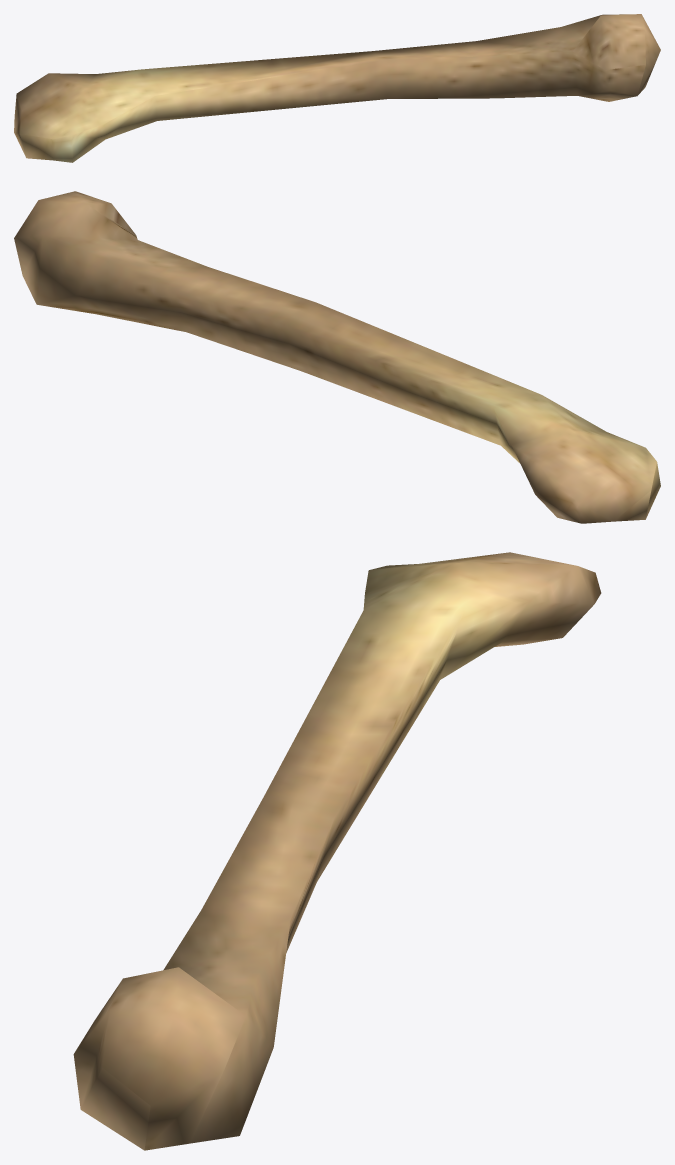
The model's file is bone_06.FBX.
3 renders of one model, top to bottom at view 1: azimuth 30°, elevation 25°; view 2: azimuth 150°, elevation 25°; view 3: azimuth 270°, elevation 25°, orthographic. The views are drawn at different scales.
Parts seen in each view (by area): view 1: bone_06; view 2: bone_06; view 3: bone_06.
Boxes of the visible parts, box(x1,y1,x2,y2) form: bone_06: box(14, 14, 660, 162); bone_06: box(14, 191, 660, 523); bone_06: box(73, 552, 601, 1150).
Size of the model in its own units: 25.16 by 3.58 by 10.25.
